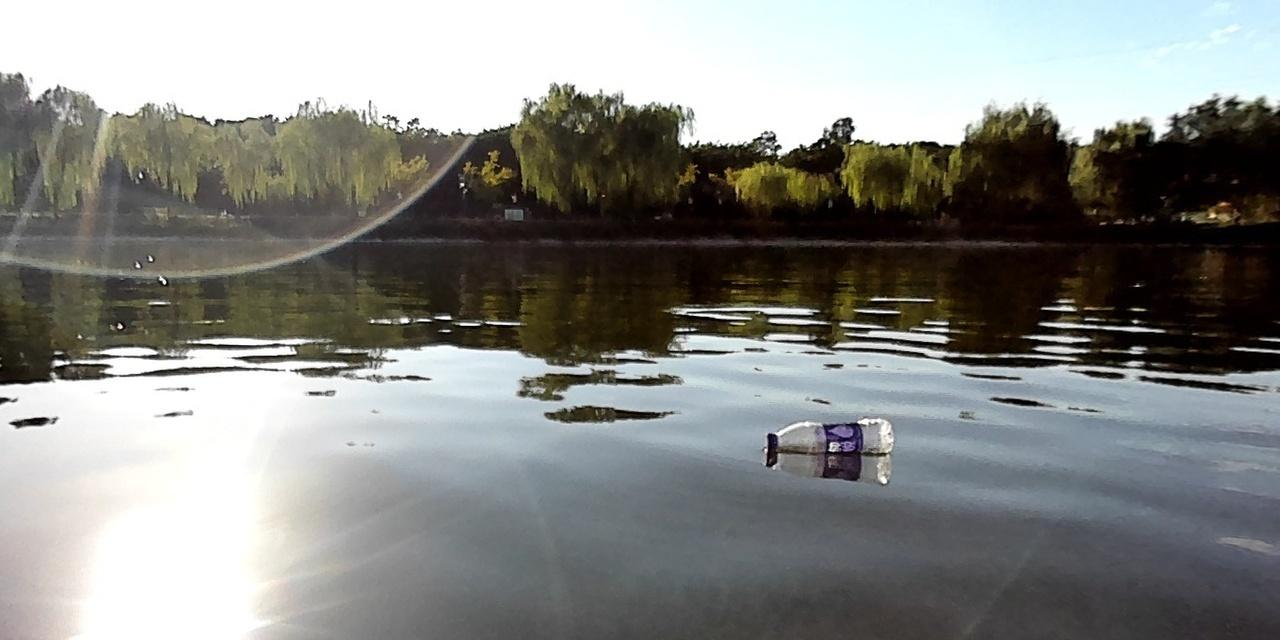bottle: (761, 414, 894, 457)
